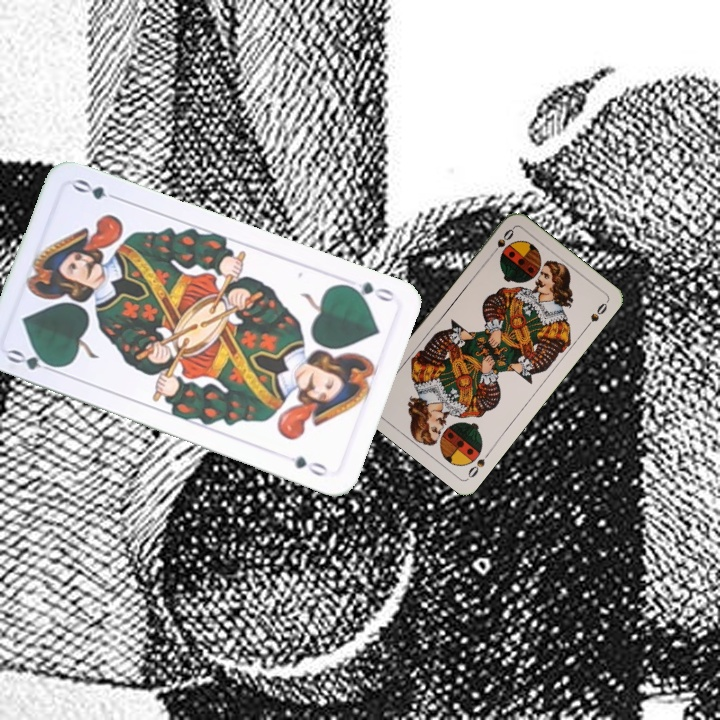GO: (3, 345, 63, 376), (339, 274, 396, 305)
SO: (486, 224, 517, 259), (463, 447, 494, 480)
